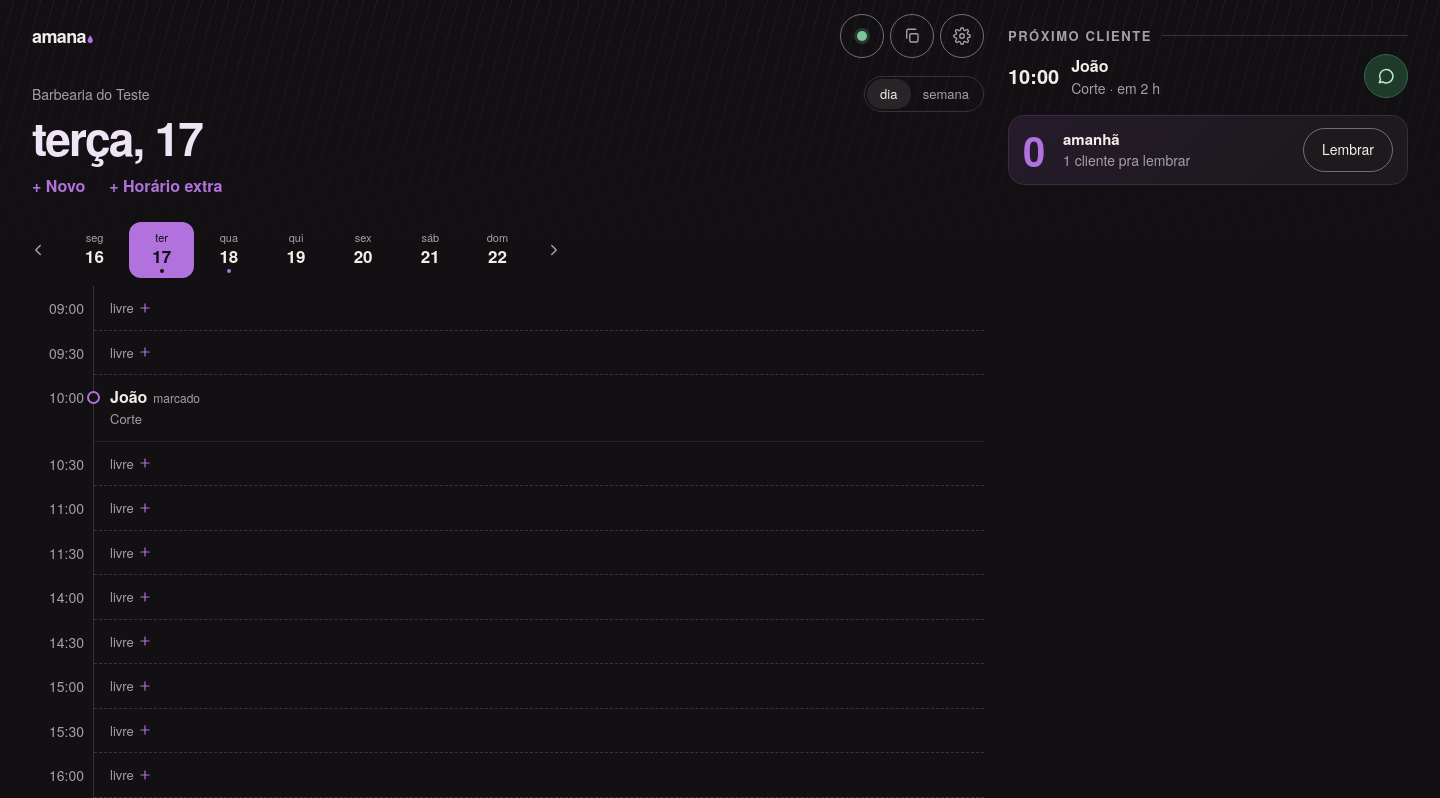
it: Agenda › tocar num horário livre abre o formulário com data e hora preenchidas
Click the button with aria-label "Marcar ter 17/11 às 09:00": (508, 308) [32, 286, 984, 330]
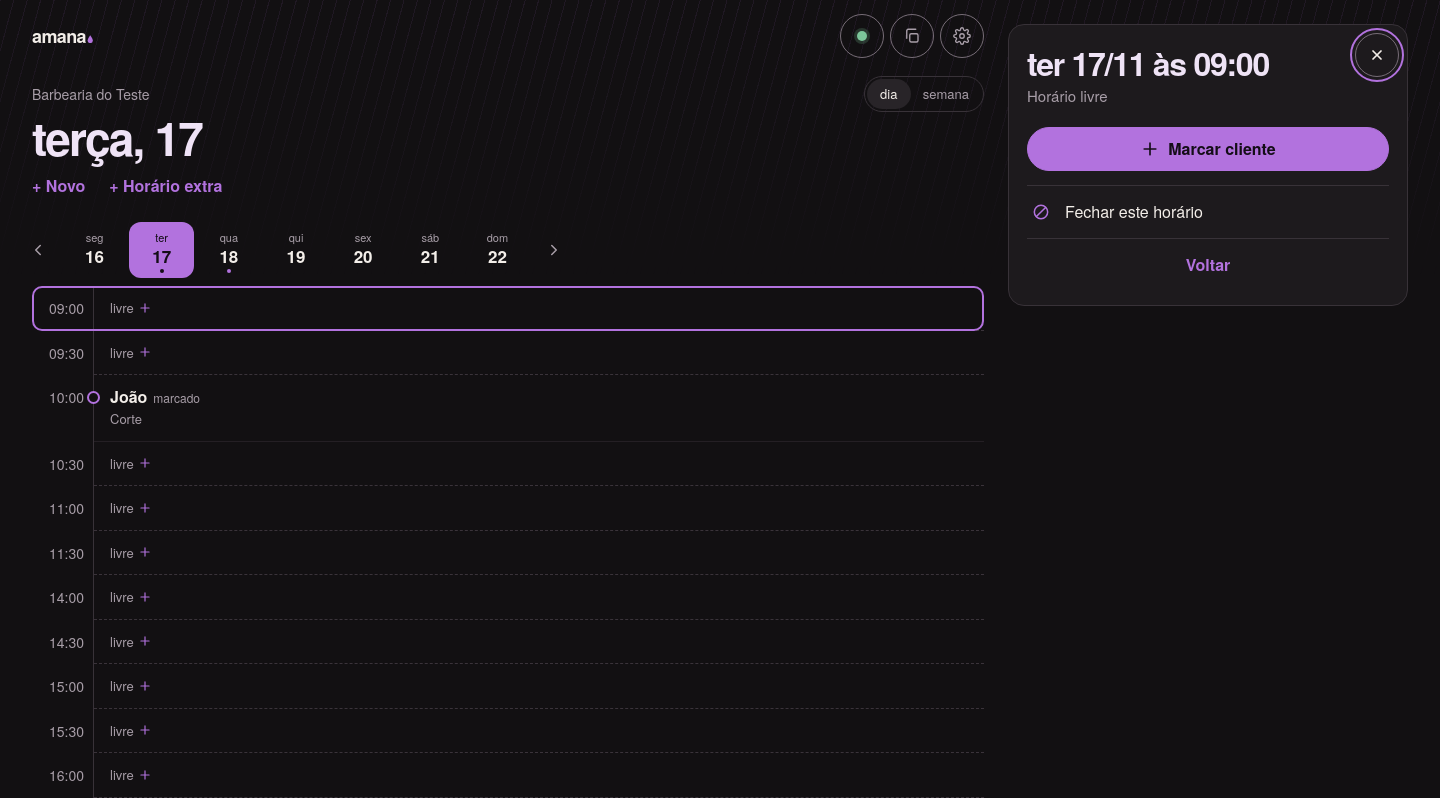
Click the button "Marcar cliente": (1208, 149) [1027, 127, 1389, 171]
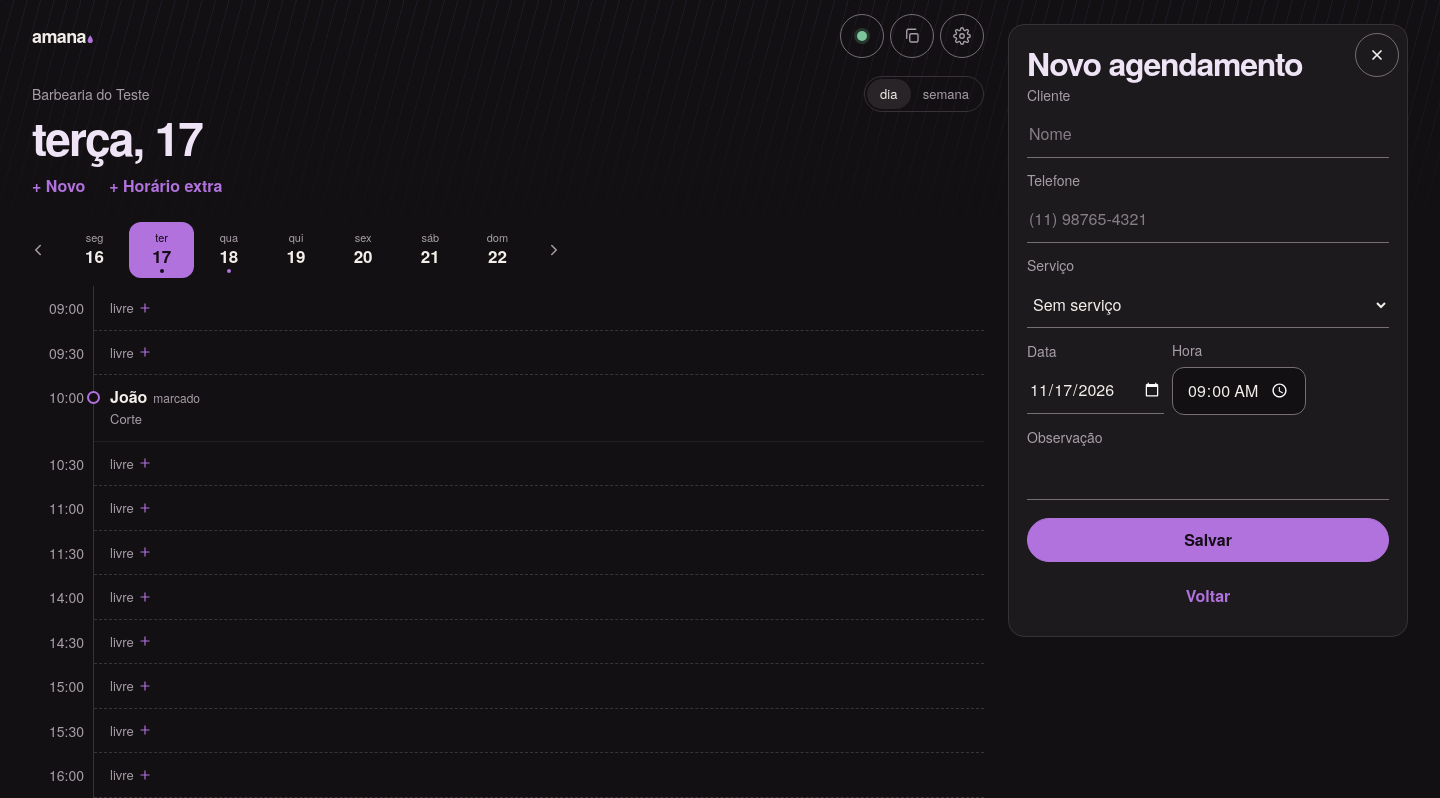
Expected: the date field labelled "Data" holds "2026-11-17", [1027, 368, 1164, 414]
Expected: the time field labelled "Hora" holds "09:00", [1172, 367, 1306, 415]
